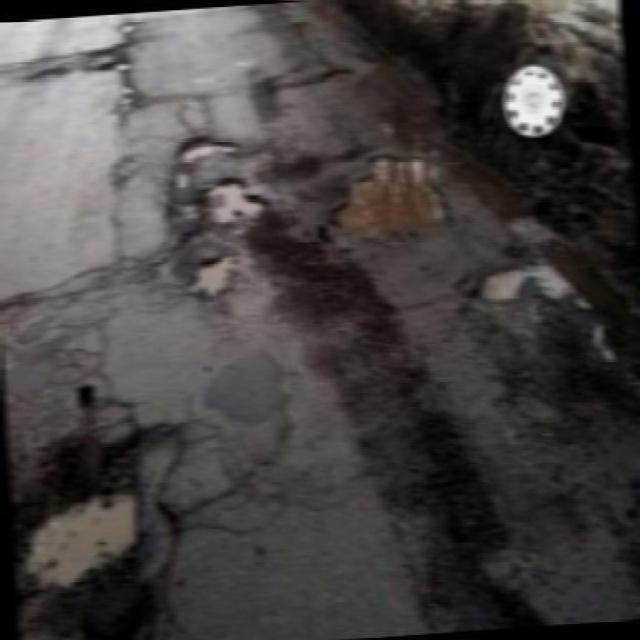Pothole: (0, 418, 192, 640), (464, 243, 636, 343), (312, 140, 451, 254), (0, 42, 145, 84), (196, 175, 275, 238), (170, 127, 244, 167), (189, 252, 246, 301)
